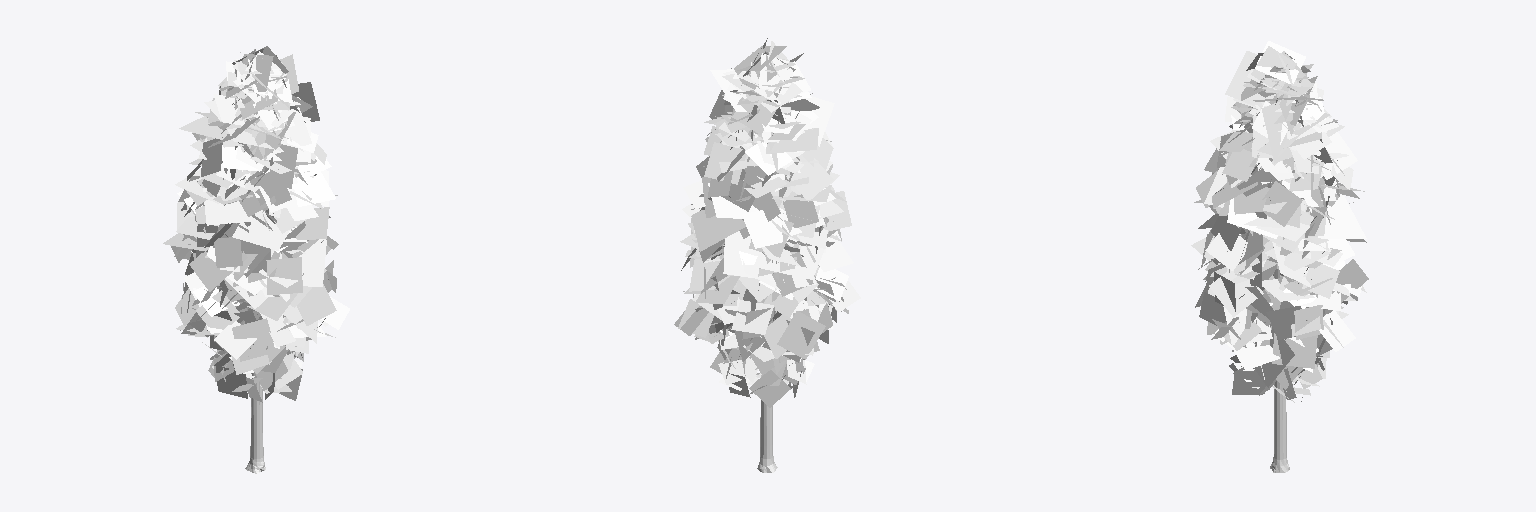
The model's file is European_Larch_Model_0.obj.
The picture shows the model from 3 angles: view 1: azimuth 30°, elevation 25°; view 2: azimuth 150°, elevation 25°; view 3: azimuth 270°, elevation 25°; orthographic projection.
Visible parts, largest first — view 1: Foliage__leafcard, Bark; view 2: Foliage__leafcard, Bark; view 3: Foliage__leafcard, Bark.
Boxes of the visible parts, x1,y1,x2,y2 form: Foliage__leafcard: [163, 46, 349, 402]; Bark: [191, 60, 328, 473]; Foliage__leafcard: [674, 38, 860, 407]; Bark: [711, 64, 835, 472]; Foliage__leafcard: [1191, 41, 1368, 402]; Bark: [1239, 102, 1339, 472].
Bounding box in the file's own units: 11.31 × 30 × 11.36.